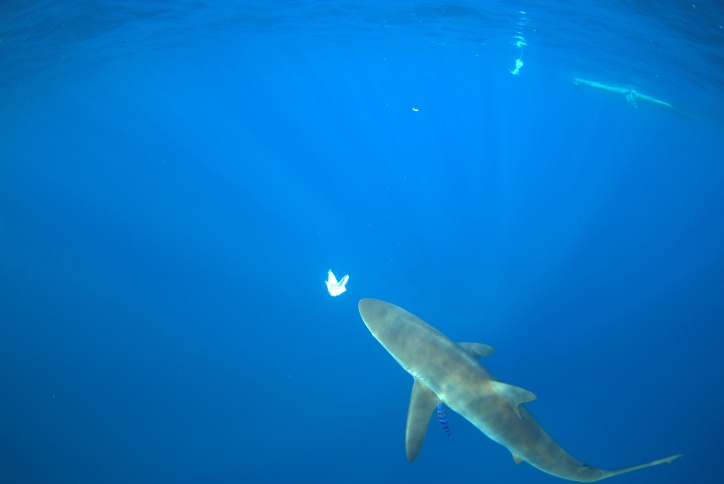Sedoso: (345, 282, 696, 484)
